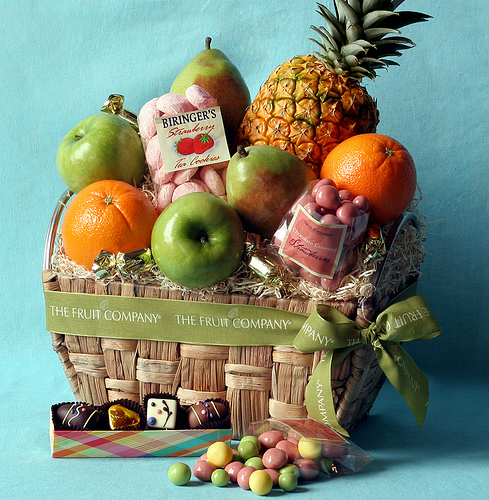pineapple: (232, 0, 433, 163)
